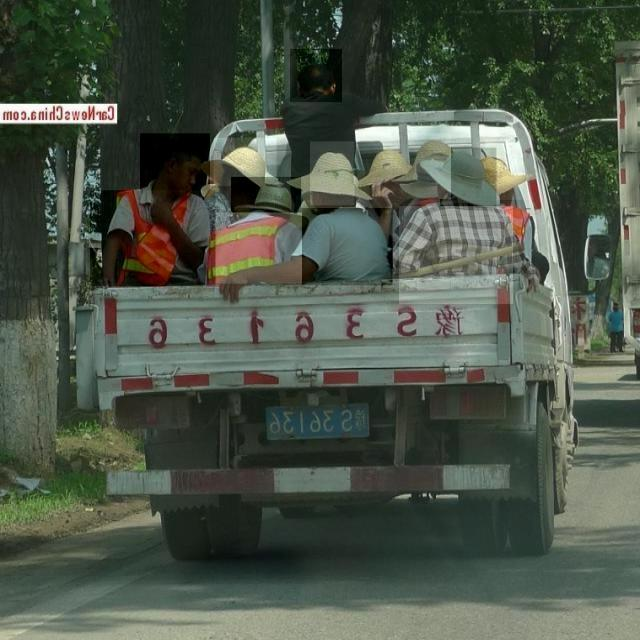Helmet: (399, 206, 513, 304), (302, 208, 392, 285), (140, 133, 210, 203), (440, 148, 496, 212), (231, 177, 301, 227), (214, 138, 276, 186), (407, 133, 451, 199), (310, 142, 354, 206), (290, 49, 342, 102), (364, 145, 414, 196), (486, 139, 522, 200)
Safety Vest: (90, 190, 216, 286), (190, 212, 302, 284), (500, 200, 536, 274)
